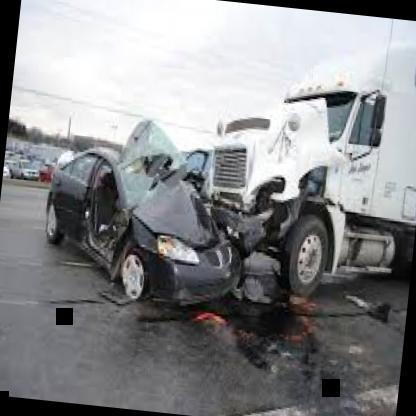accident: (11, 93, 398, 378)
